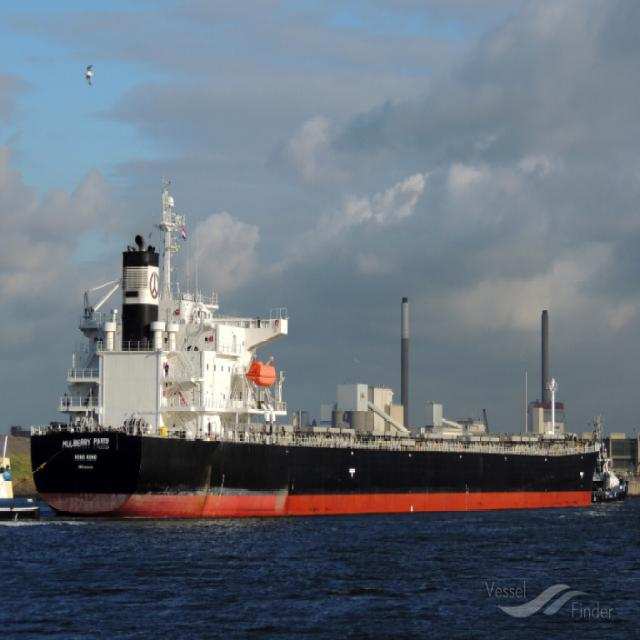OCR: (58, 438, 114, 453)
